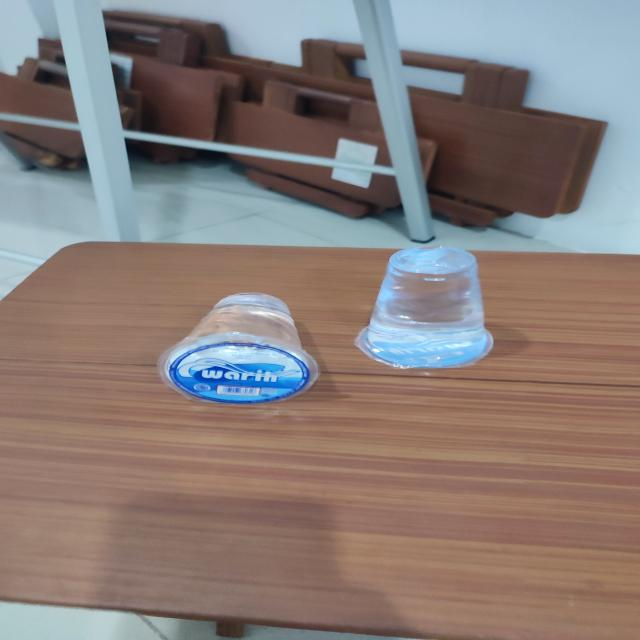air gelas: (355, 241, 512, 377), (174, 286, 338, 412)
